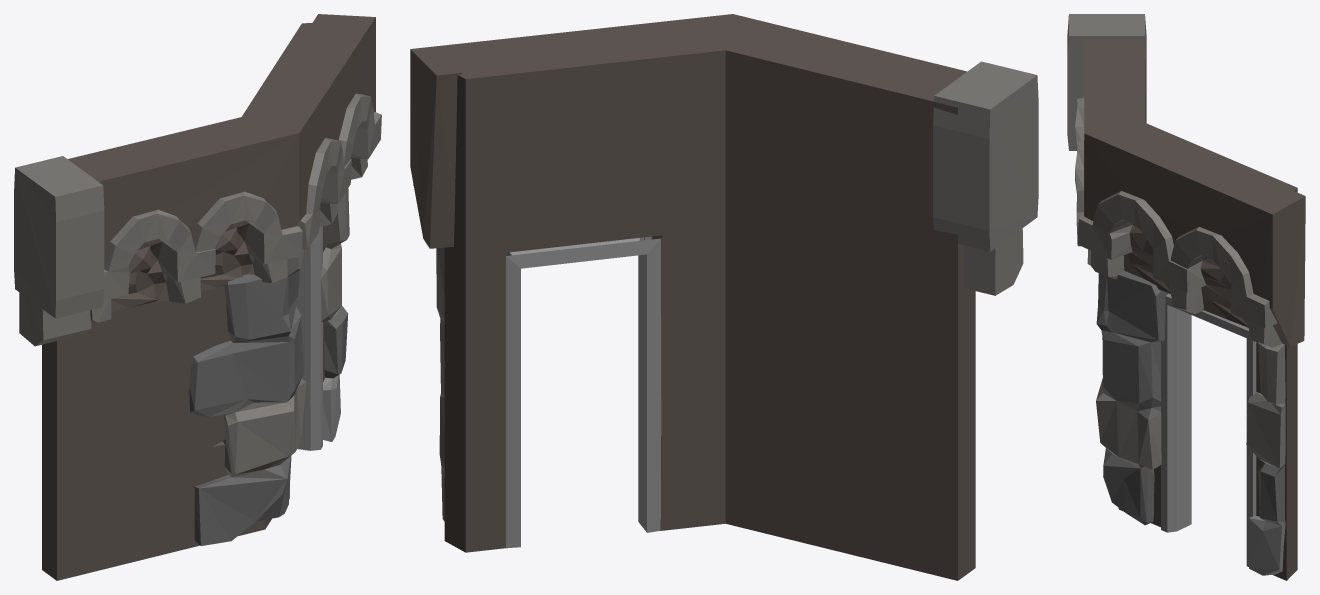
File: MCastle_OctWalls_ArchCarbels_Door_03.FBX
The picture shows the model from 3 angles, left to right: view 1: azimuth 30°, elevation 25°; view 2: azimuth 150°, elevation 25°; view 3: azimuth 270°, elevation 25°; orthographic projection. The views are drawn at different scales.
Parts seen in each view (by area): view 1: MCastle_OctWalls_ArchCarbels_Door_03_LOD0; view 2: MCastle_OctWalls_ArchCarbels_Door_03_LOD0; view 3: MCastle_OctWalls_ArchCarbels_Door_03_LOD0.
Part boxes in pixels (left/top/right/bottom): MCastle_OctWalls_ArchCarbels_Door_03_LOD0: left=14, top=14, right=381, bottom=580; MCastle_OctWalls_ArchCarbels_Door_03_LOD0: left=410, top=14, right=1038, bottom=580; MCastle_OctWalls_ArchCarbels_Door_03_LOD0: left=1067, top=14, right=1305, bottom=580.
Size of what is drawn, in the model's own units: 4.97 by 4.51 by 2.52.
